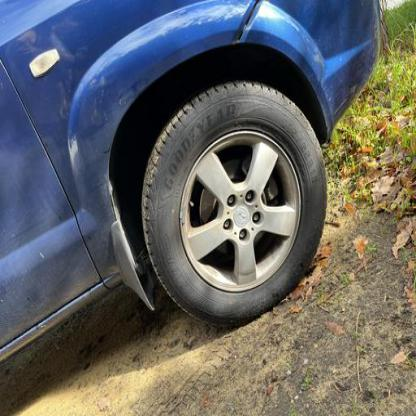Tire: (141, 83, 328, 326)
